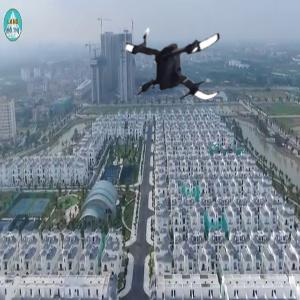drone: (113, 7, 230, 124)
